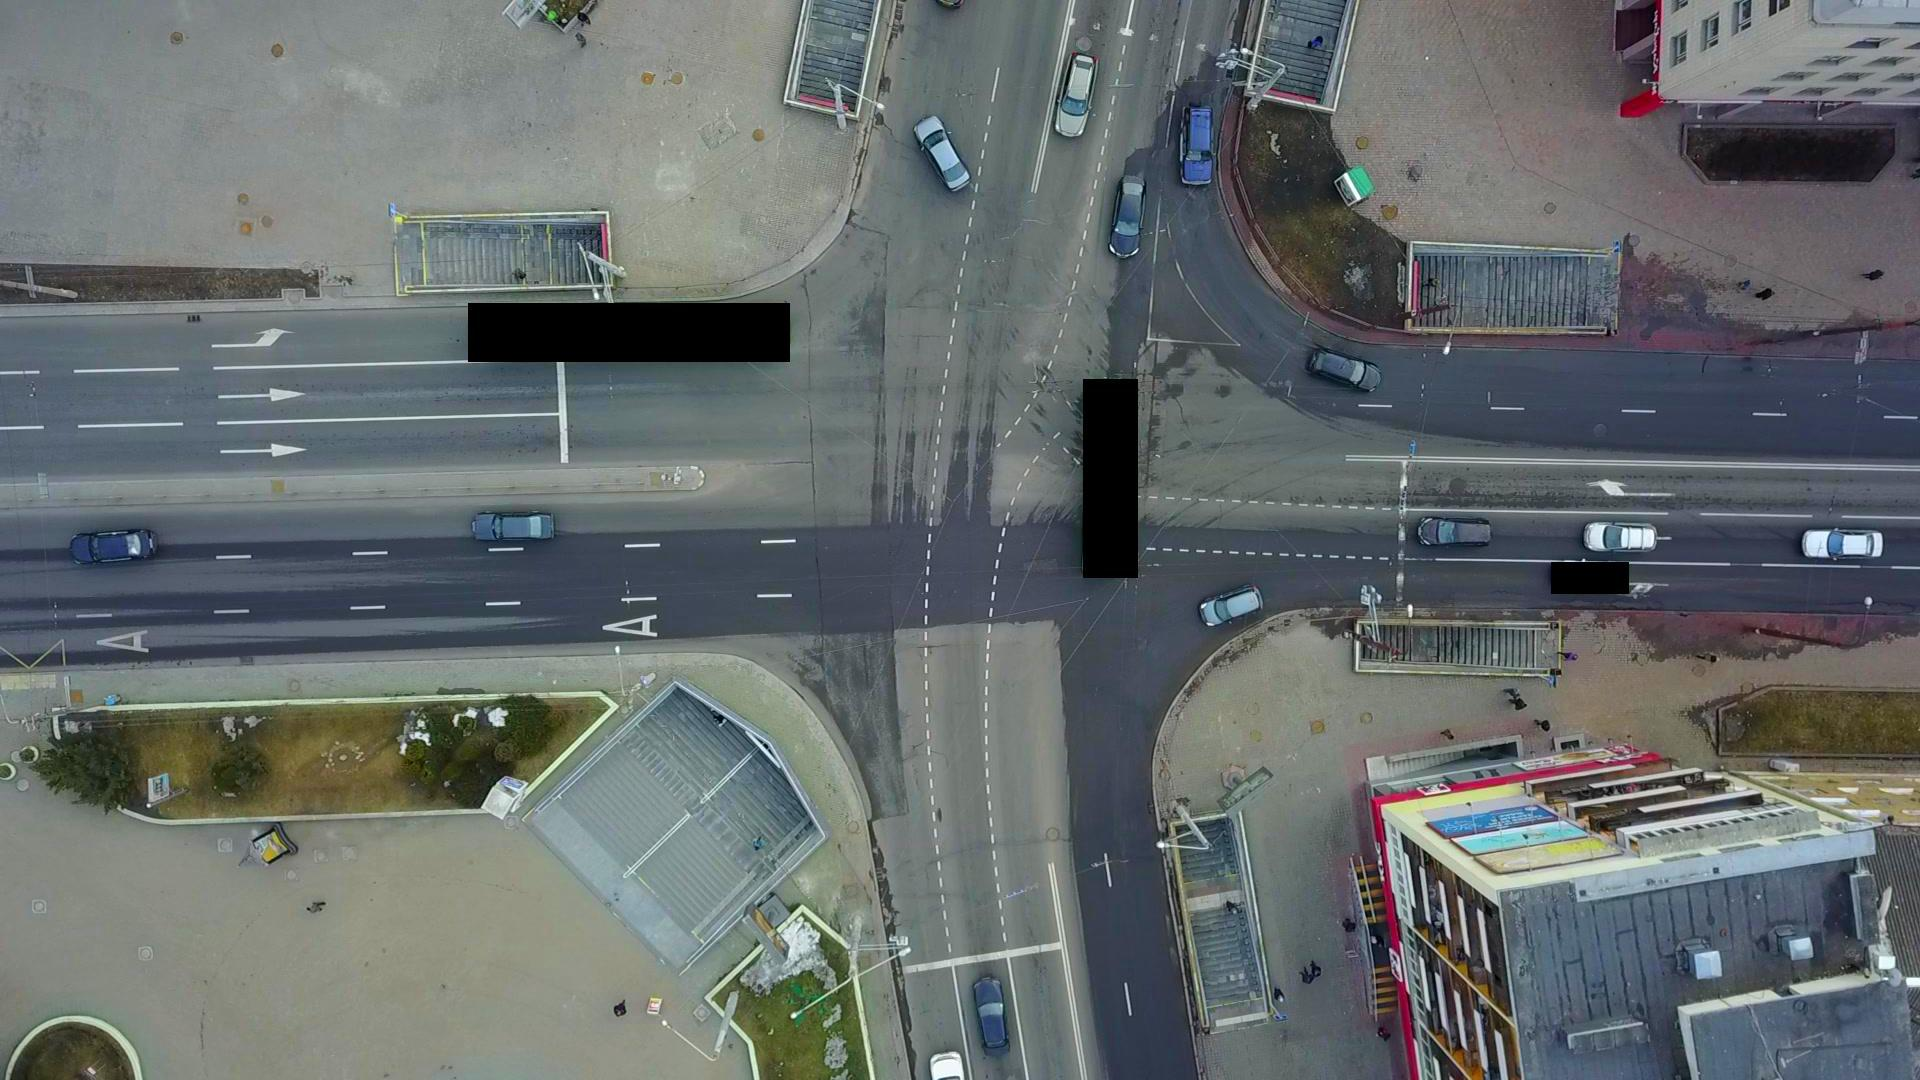vehicle: (913, 113, 972, 195), (1052, 51, 1100, 138), (1305, 347, 1382, 396), (1105, 173, 1149, 258), (971, 975, 1011, 1064), (1176, 103, 1218, 189), (67, 527, 160, 566), (1196, 584, 1265, 629), (469, 510, 556, 543), (1803, 527, 1884, 562), (1414, 516, 1491, 551), (1582, 521, 1659, 555)
